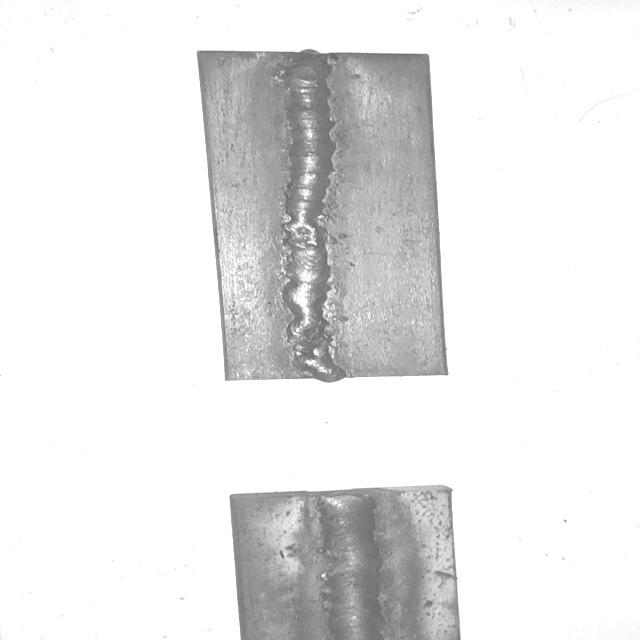Defect: (276, 316, 353, 378), (269, 212, 350, 252)
Welding Line: (282, 51, 334, 376), (319, 492, 384, 640)
Workpiece: (190, 47, 455, 386), (222, 480, 468, 640)
